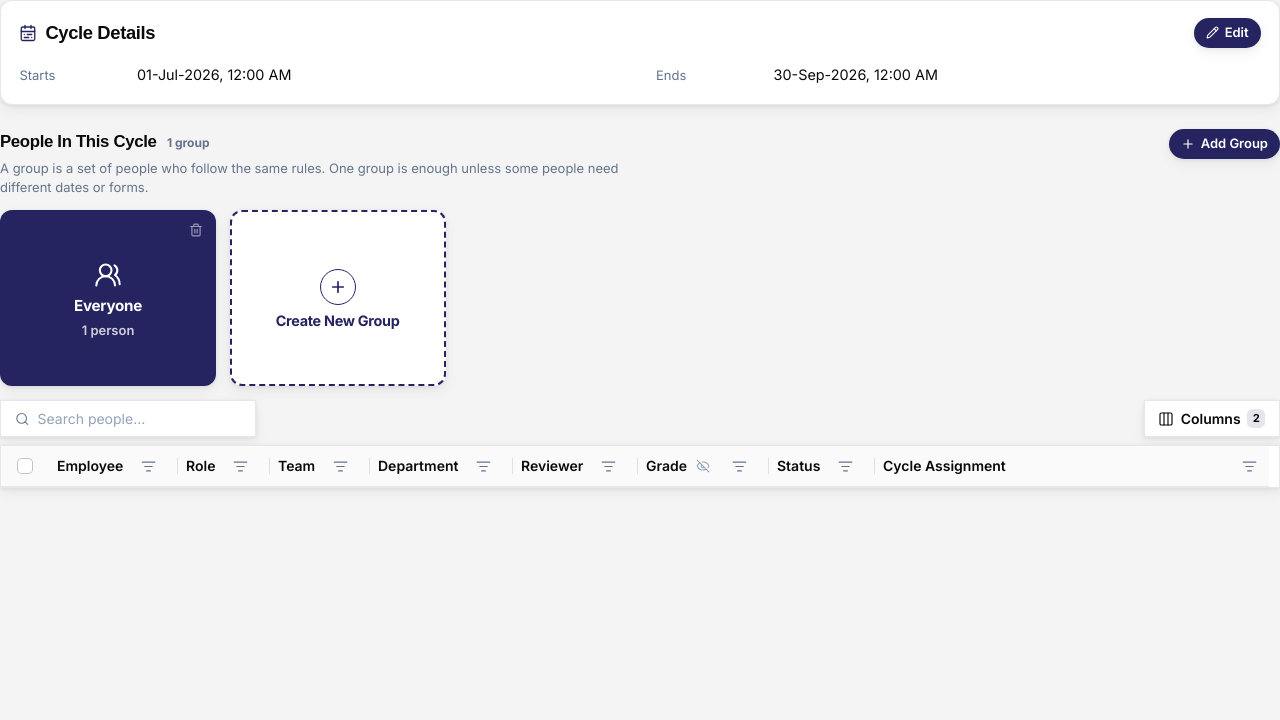
Test: CycleSettingsView › opens cycle details in a right panel and keeps the overview visible
What coordinates should you click on to do the following:
click the button "Edit"
I would click on:
 (1227, 33)
Its box is top-left (1194, 18), bottom-right (1261, 48).
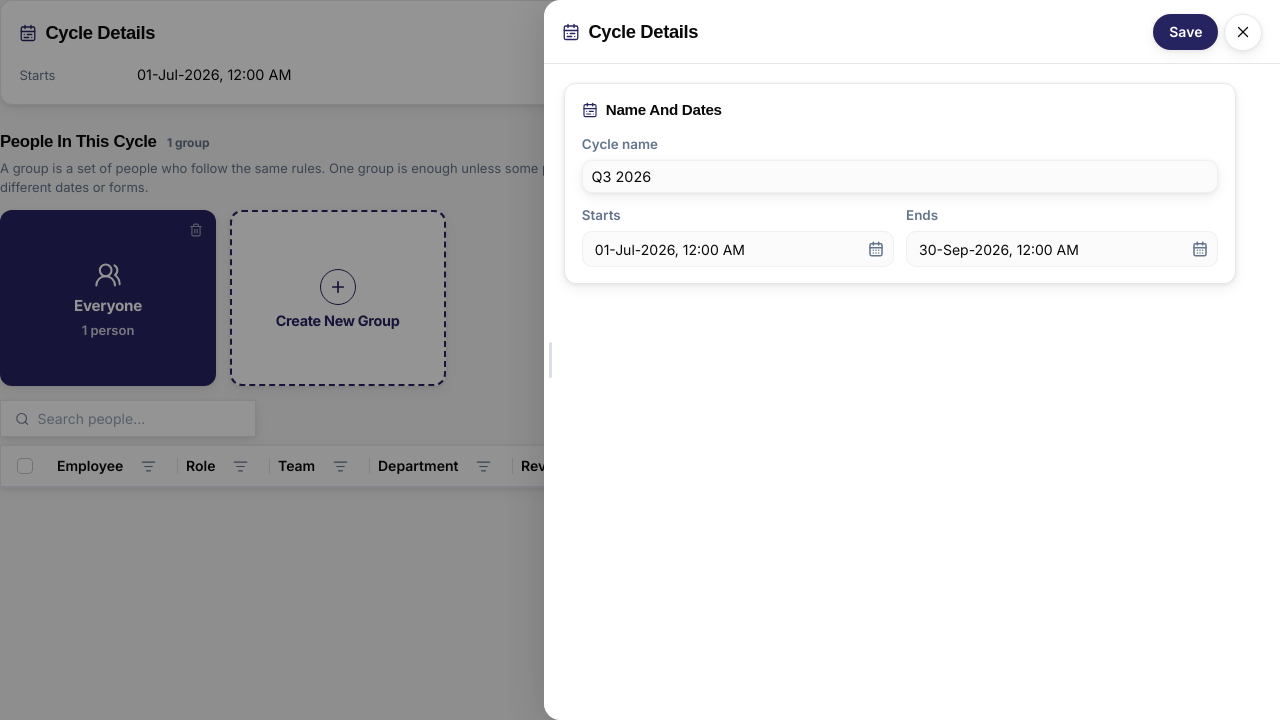
expect the heading "People In This Cycle" is shown: met, box top-left (0, 129), bottom-right (156, 154)
expect the dialog "Cycle Details" is shown: met, box top-left (544, 0), bottom-right (1279, 719)
expect the field labelled "Cycle name" is shown: met, box top-left (582, 160), bottom-right (1218, 193)
